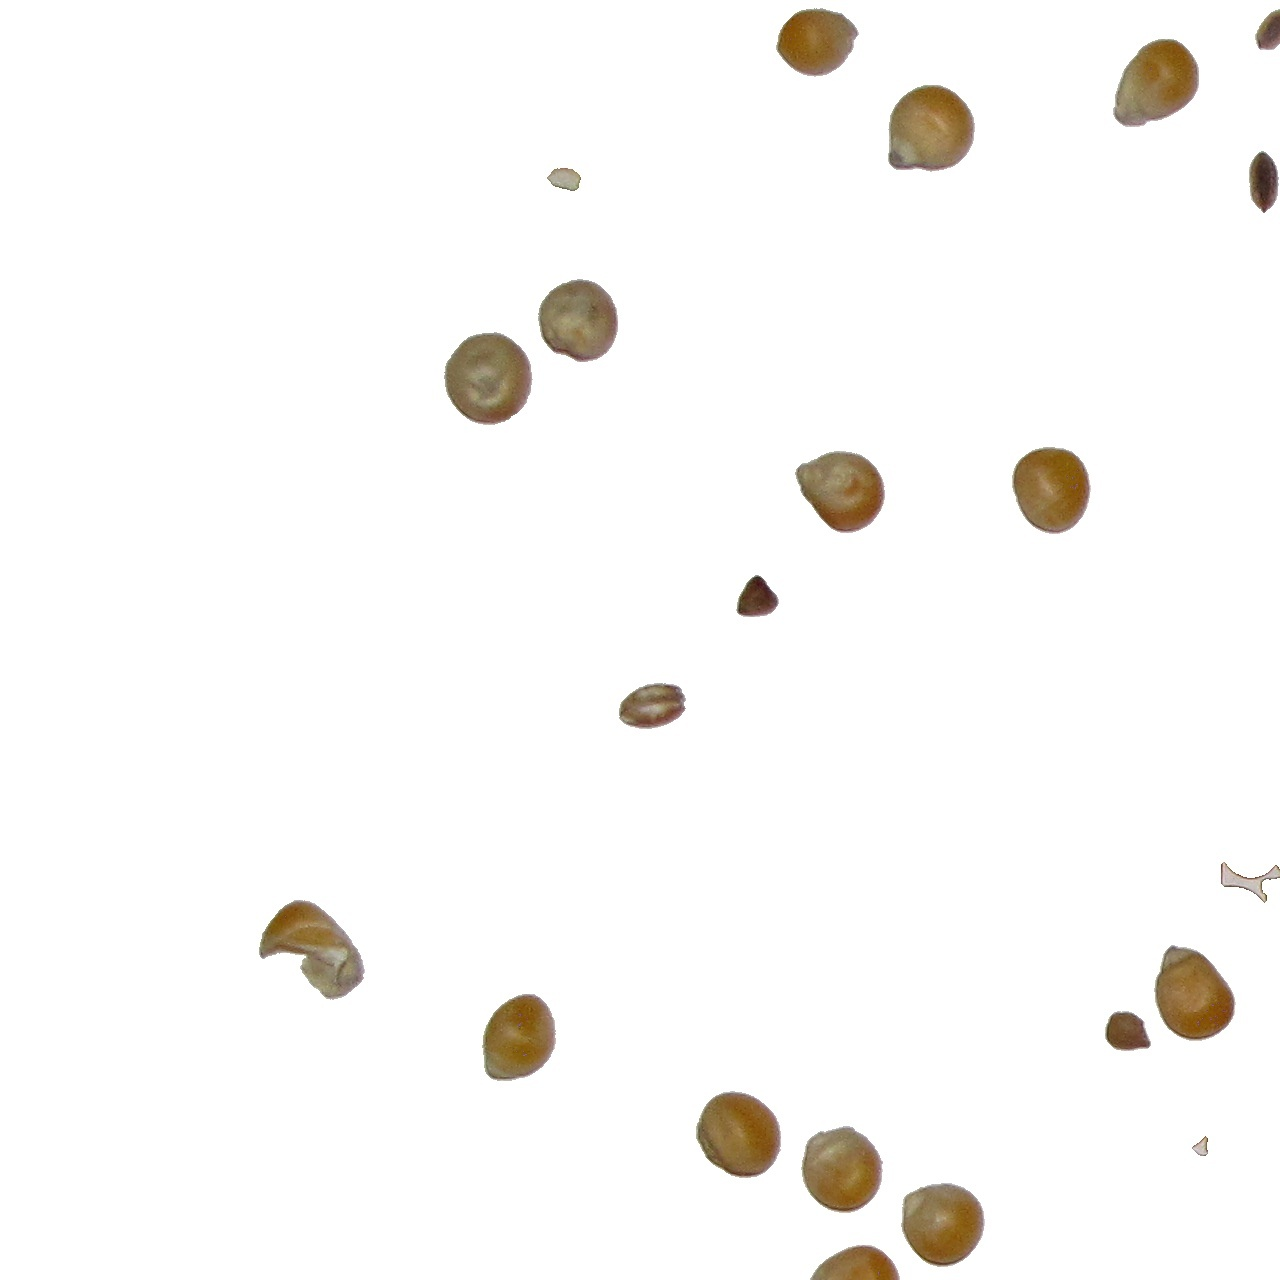buckwheat: (1248, 150, 1280, 215), (735, 574, 779, 618), (1254, 5, 1280, 48), (1191, 1135, 1208, 1157)
dill: (1214, 862, 1280, 904)
mais: (258, 899, 366, 1001), (443, 331, 535, 425), (1153, 944, 1237, 1042), (887, 84, 976, 173), (1112, 38, 1200, 128), (794, 450, 886, 535), (695, 1090, 782, 1179), (799, 1125, 884, 1214), (900, 1182, 986, 1268), (1012, 445, 1092, 535), (537, 278, 619, 363), (481, 993, 557, 1082), (775, 7, 860, 79), (801, 1244, 903, 1280)
other: (626, 682, 687, 731), (1104, 1010, 1152, 1051), (546, 166, 583, 192)
